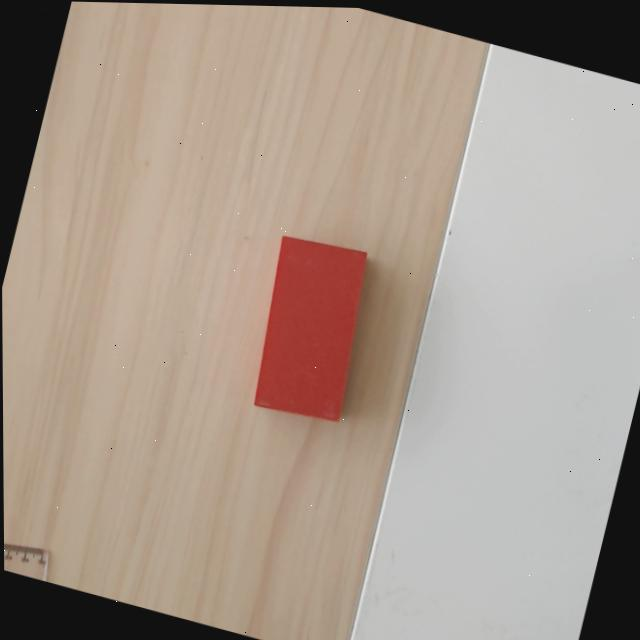Balok-Merah-1005025: (252, 234, 366, 422)
